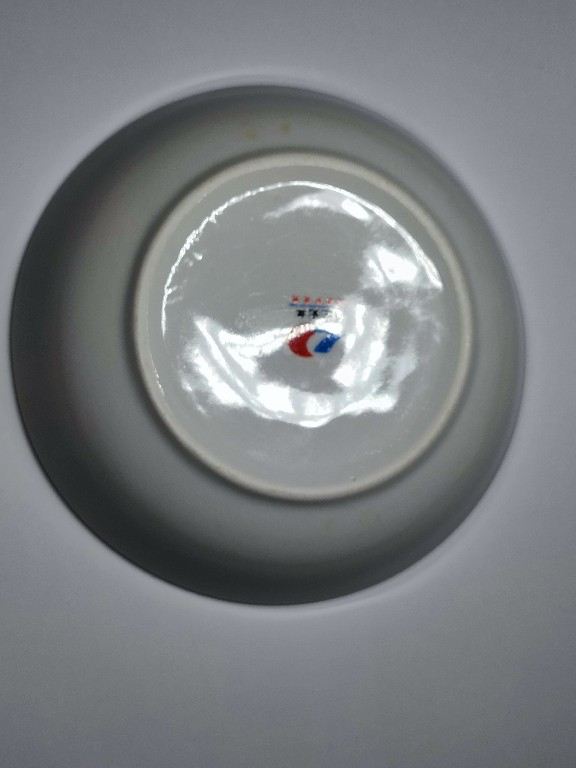ceramics: (6, 65, 536, 627)
